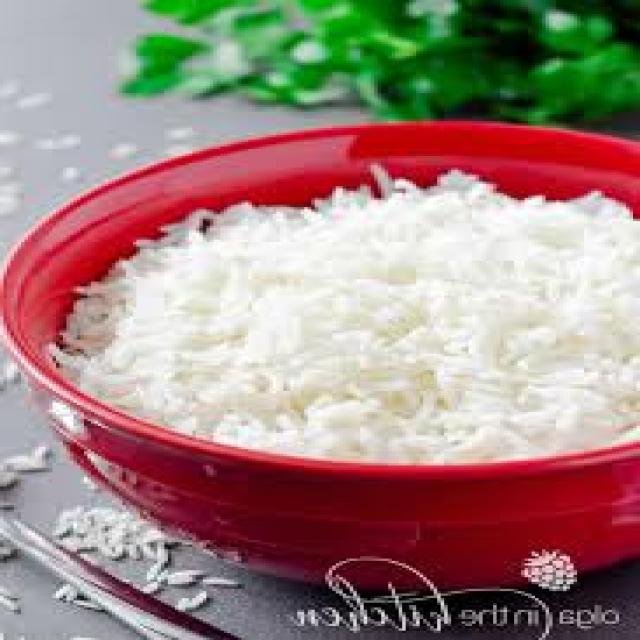White Rice: (8, 137, 630, 564)
